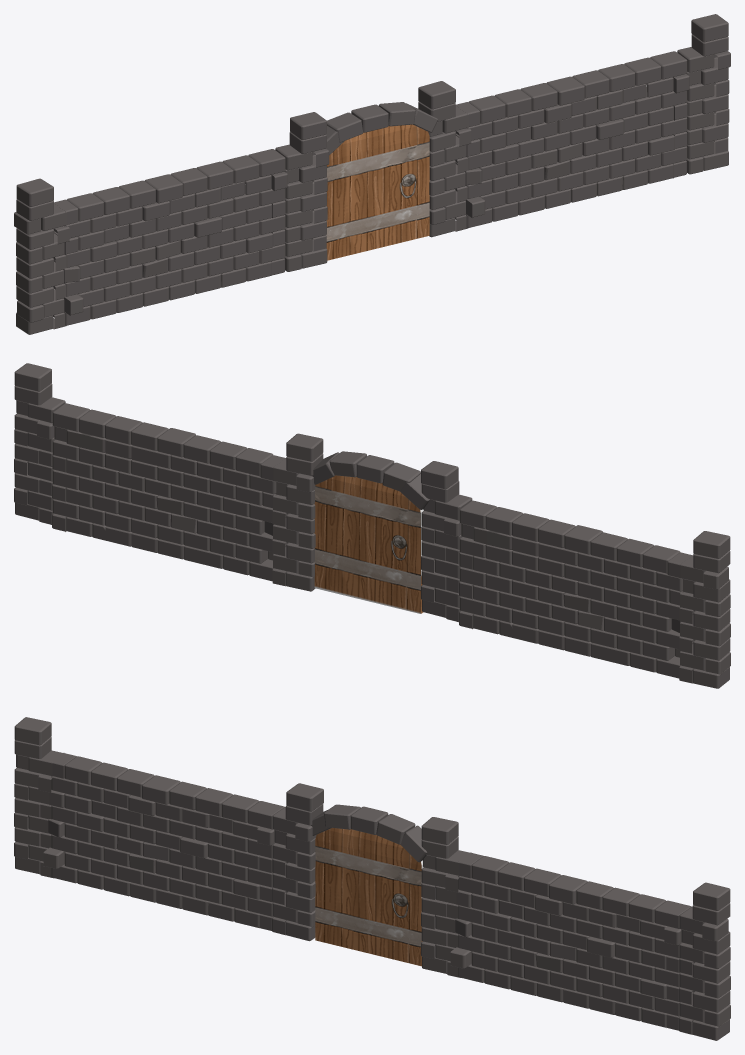
Rendered from Frontgate.fbx.
3 renders of one model, top to bottom at view 1: azimuth 30°, elevation 25°; view 2: azimuth 150°, elevation 25°; view 3: azimuth 330°, elevation 25°, orthographic.
Visible parts, largest first — view 1: brickwall, Cube.001; view 2: brickwall, Cube.001; view 3: brickwall, Cube.001.
Boxes of the visible parts, box(x1,y1,x2,y2) form: brickwall: box(14, 14, 730, 334); Cube.001: box(326, 124, 429, 260); brickwall: box(14, 363, 730, 688); Cube.001: box(314, 475, 423, 613); brickwall: box(14, 717, 730, 1040); Cube.001: box(315, 828, 423, 966).
Size of the model in its own units: 10951 by 2180 by 590.
